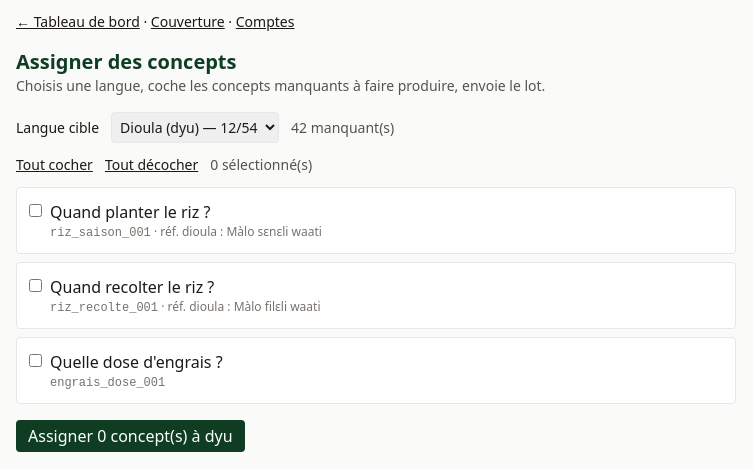
AssignView — assignation par lot › envoie tout le lot coche a la langue selectionnee et recharge la liste
Click the button "Tout cocher" at x=54, y=165, box [16, 155, 93, 175]
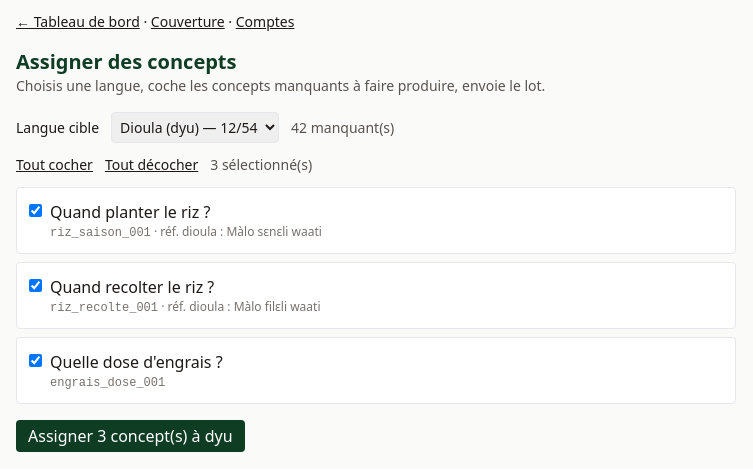
Now the text "3 sélectionné(s)" is shown, box [210, 155, 312, 174]
Now the button "Assigner 3 concept(s) à dyu" is shown
Click the button "Assigner 3 concept(s) à dyu" at x=130, y=436, box [16, 420, 244, 452]
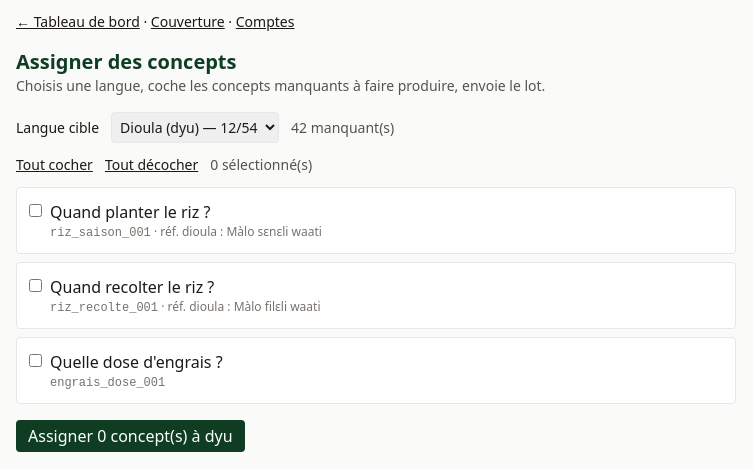
Now the text "0 sélectionné(s)" is shown, box [210, 155, 312, 174]
